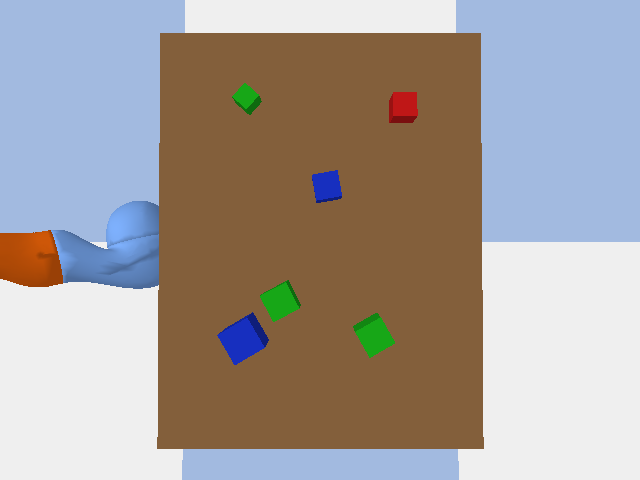blue_obj: (217, 312, 268, 364), (312, 170, 341, 202)
green_obj: (353, 313, 394, 357), (260, 280, 300, 321), (232, 83, 261, 114)
red_obj: (389, 92, 417, 122)
